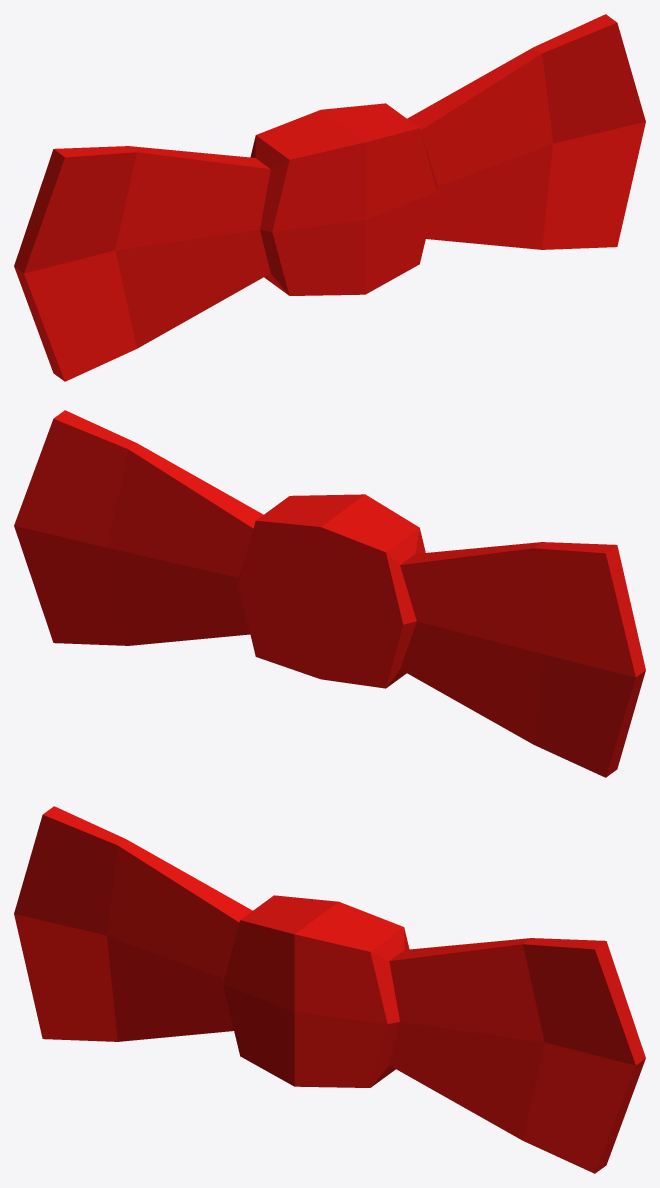
Rendered from Bowtie.obj.
3 renders of one model, top to bottom at view 1: azimuth 30°, elevation 25°; view 2: azimuth 150°, elevation 25°; view 3: azimuth 330°, elevation 25°, orthographic.
Parts seen in each view (by area): view 1: Bowtie; view 2: Bowtie; view 3: Bowtie.
Part boxes in pixels (left/top/right/bottom): Bowtie: left=14, top=14, right=645, bottom=381; Bowtie: left=14, top=410, right=645, bottom=777; Bowtie: left=14, top=806, right=645, bottom=1173.
Size of the model in its own units: 1 by 0.3449 by 0.1241.
